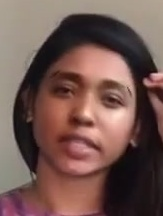eb_f: (46, 65, 137, 111)
